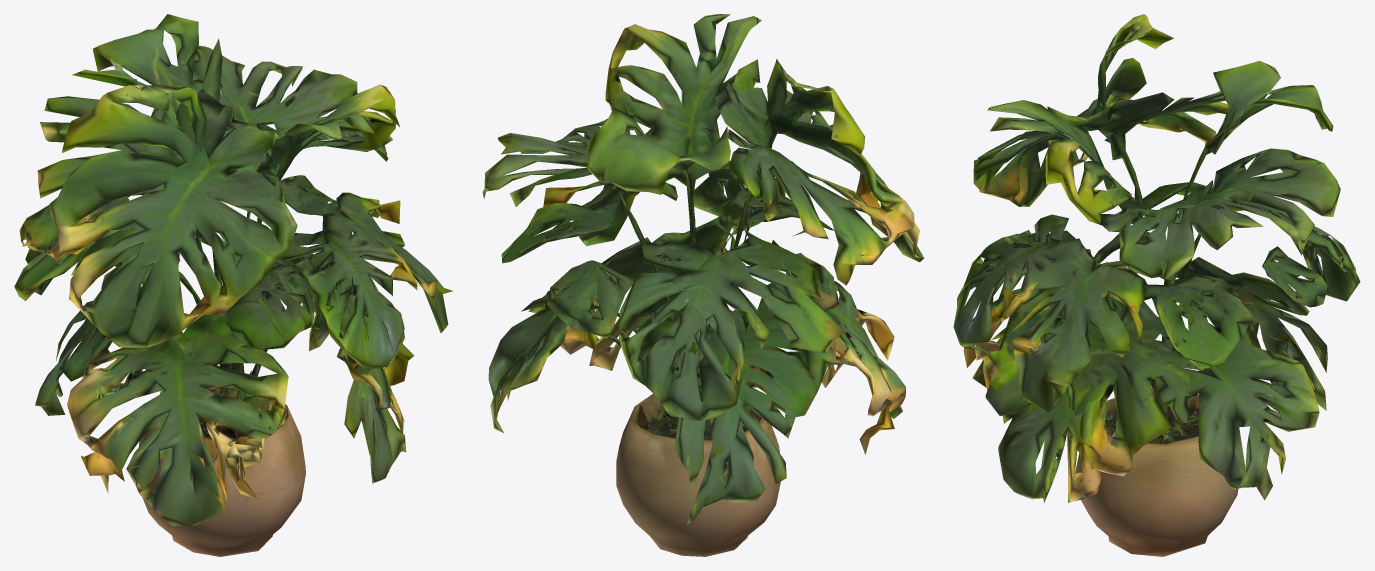
File: wilting monstera.glb
3 views of the same model, side by side, from view 1: azimuth 30°, elevation 25°; view 2: azimuth 150°, elevation 25°; view 3: azimuth 270°, elevation 25° (orthographic). The views are drawn at different scales.
Bounding box in the file's own units: 1.62 × 2 × 1.58.
1 material, 1 textured.
